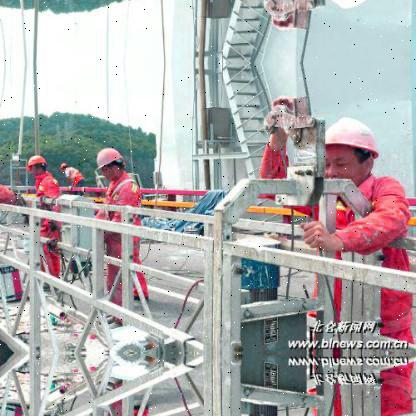Helmet: (314, 116, 375, 191), (90, 145, 126, 185), (22, 156, 48, 181)
